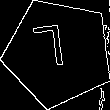L_S: (40, 26, 77, 79)
